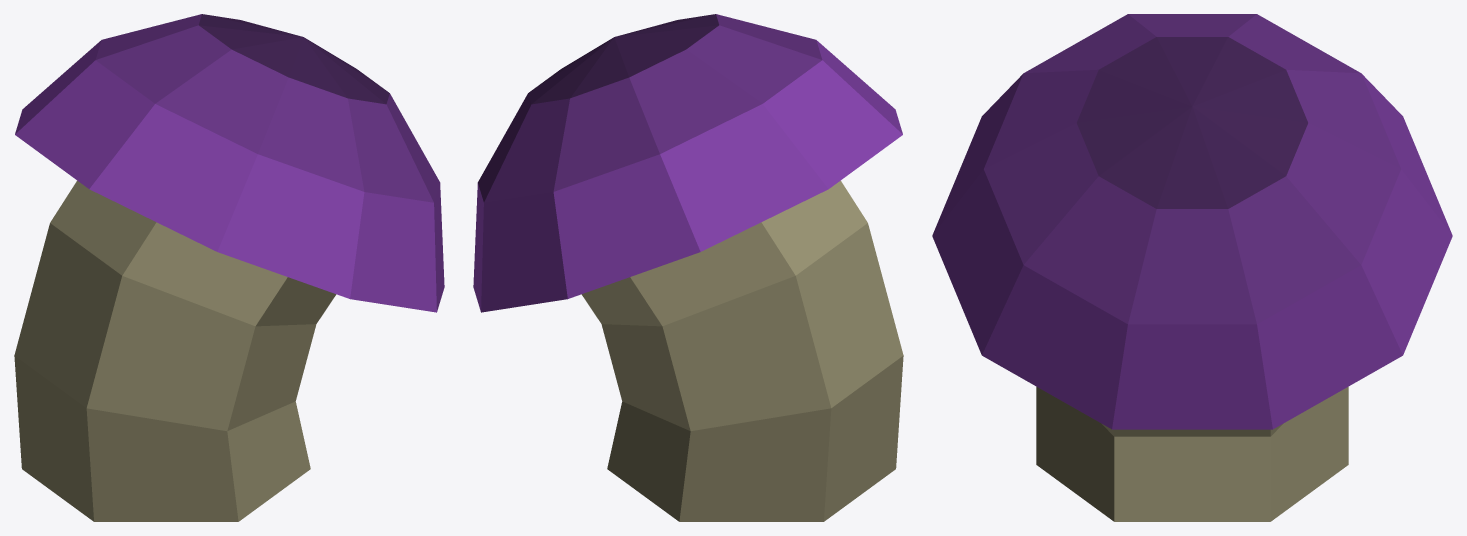
Rendered from Mushroom_3_Purple.fbx.
3 renders of one model, left to right at view 1: azimuth 30°, elevation 25°; view 2: azimuth 150°, elevation 25°; view 3: azimuth 270°, elevation 25°, orthographic. The views are drawn at different scales.
Parts seen in each view (by area): view 1: Mushroom_3_Purple; view 2: Mushroom_3_Purple; view 3: Mushroom_3_Purple.
Boxes of the visible parts, x1,y1,x2,y2 form: Mushroom_3_Purple: [14, 14, 444, 521]; Mushroom_3_Purple: [473, 14, 903, 521]; Mushroom_3_Purple: [932, 14, 1452, 521].
Bounding box in the file's own units: 57.52 × 64.13 × 66.69.
